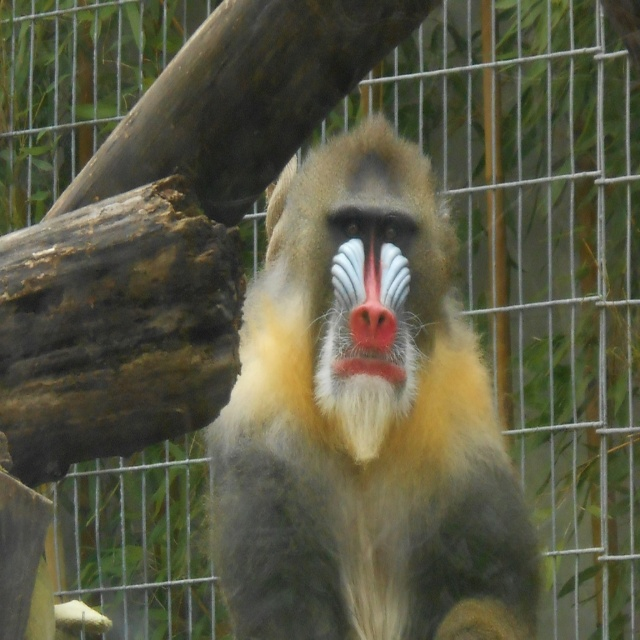Monkey: (179, 100, 554, 622)
